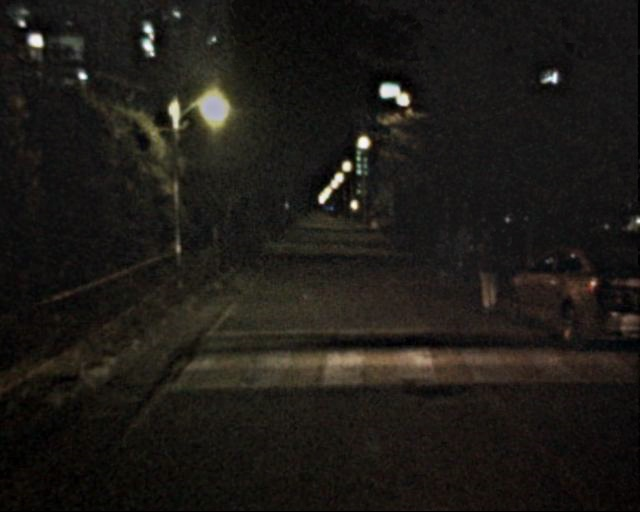person: (469, 224, 507, 317), (449, 222, 480, 292), (428, 226, 459, 291)
